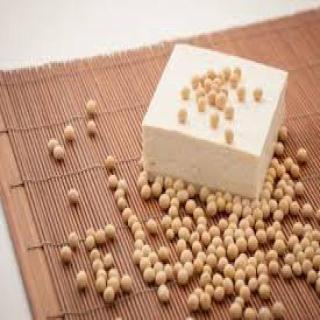Tahu: (139, 38, 297, 208)
